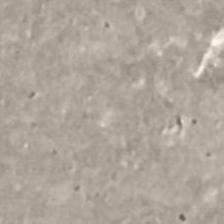Non_Crack: (18, 20, 218, 211)
